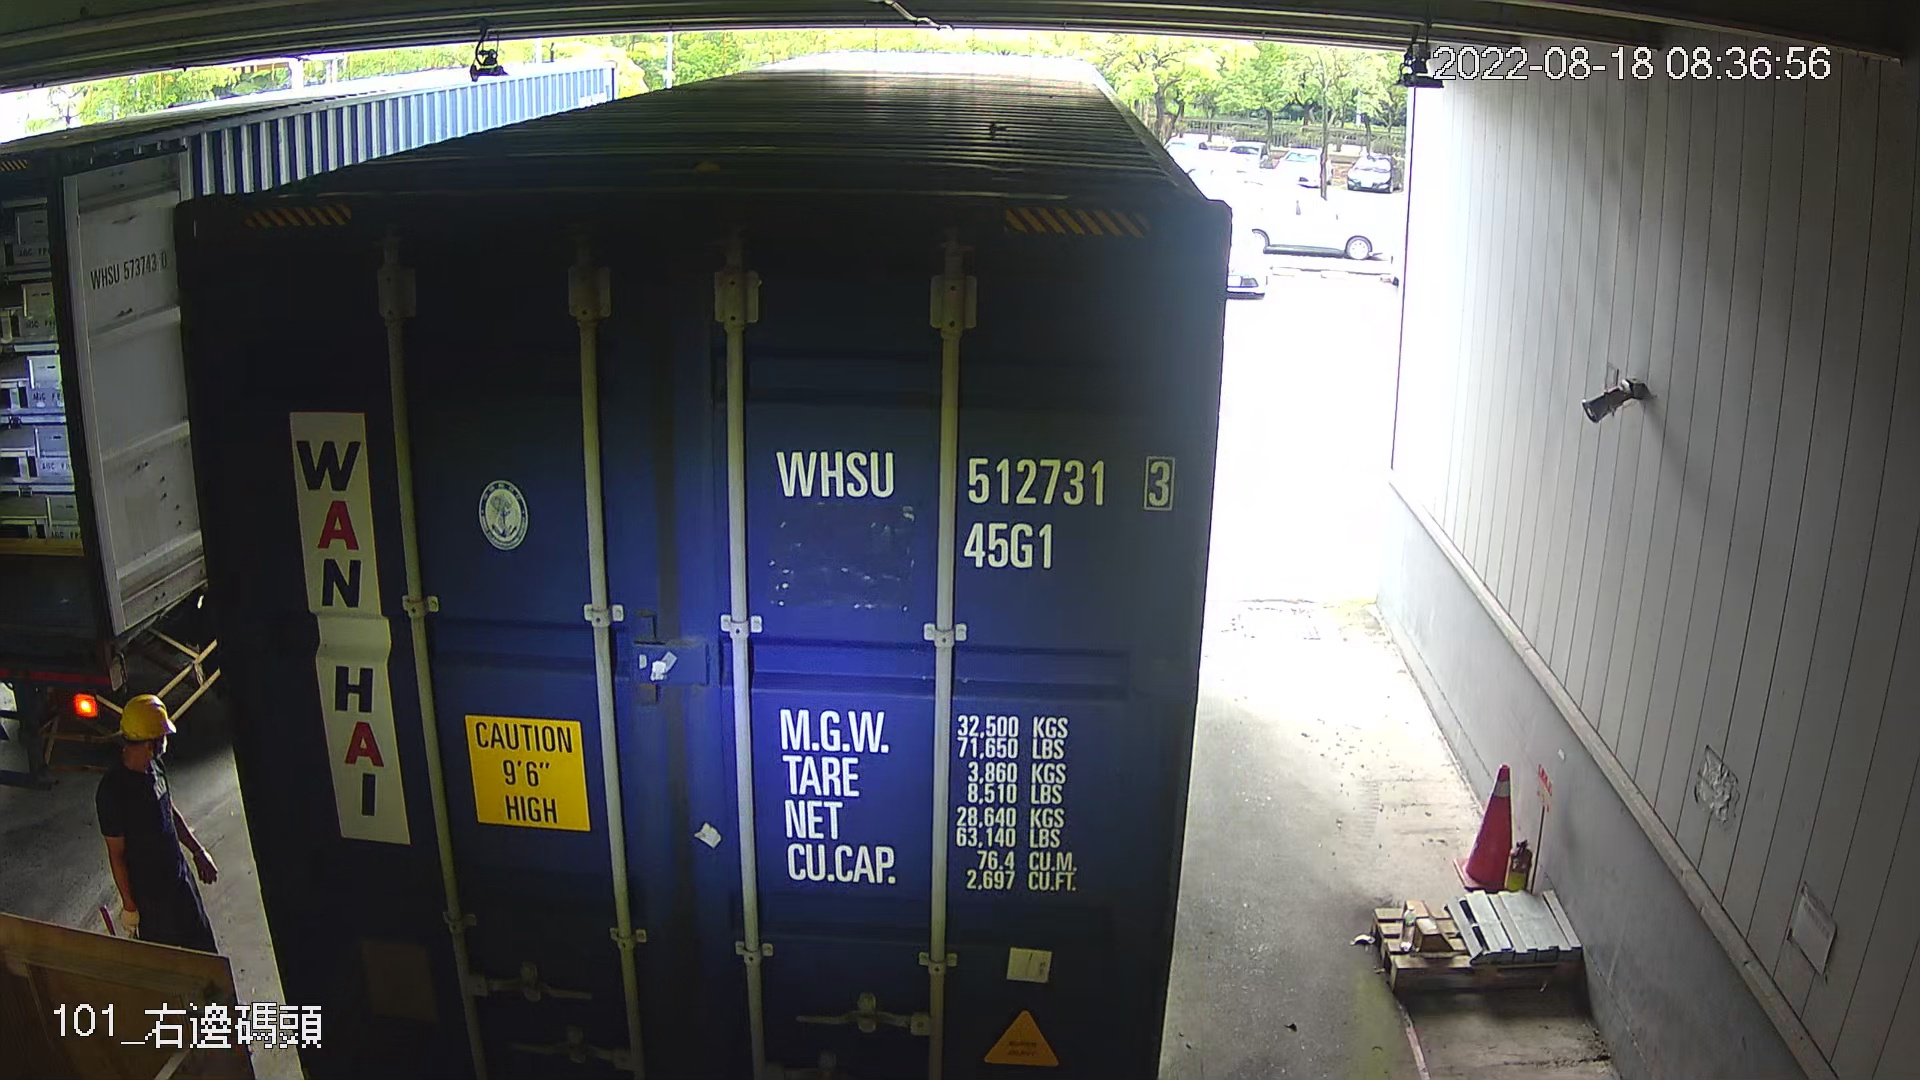container: (760, 433, 1189, 579)
